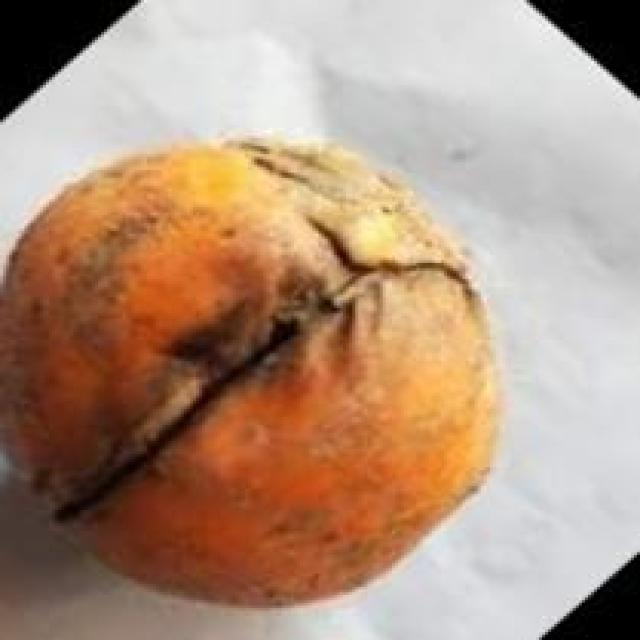damaged: (0, 130, 511, 613)
